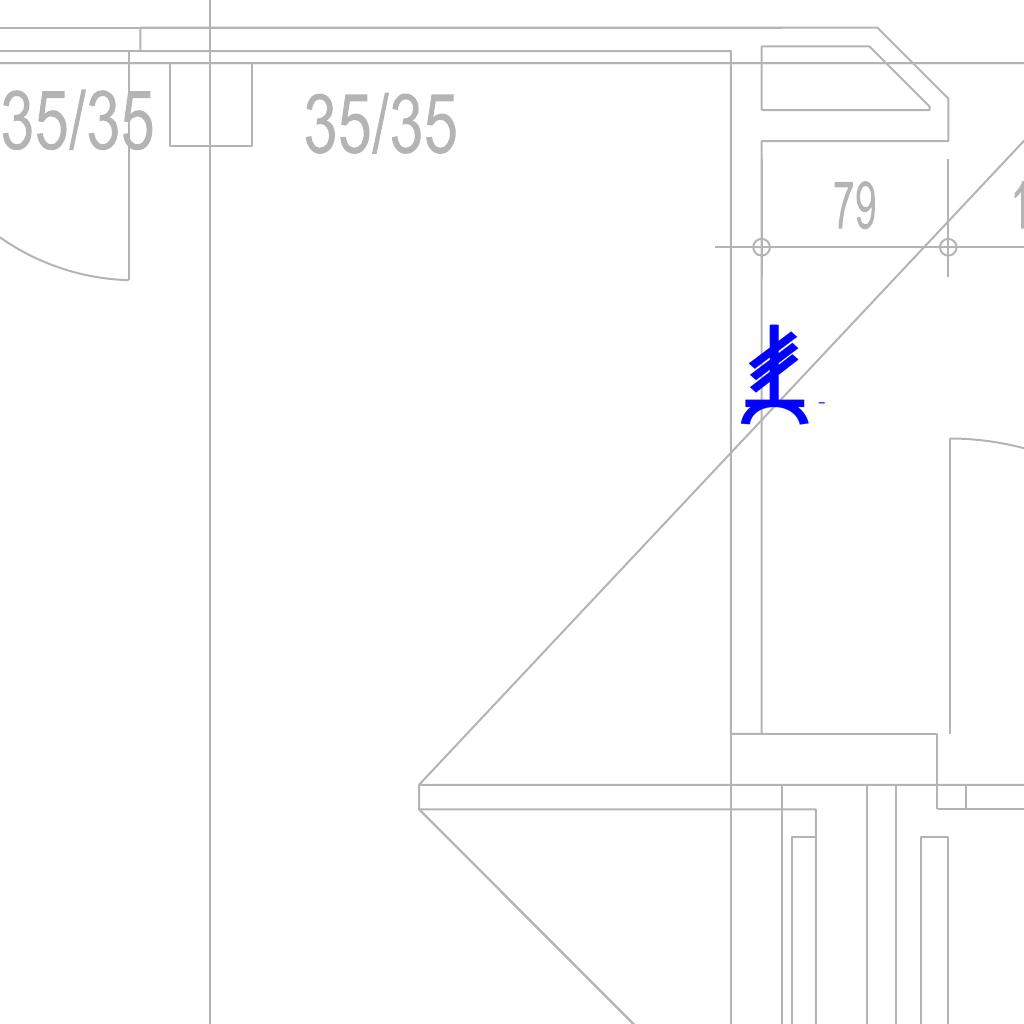CEE_Drehstrom_Steckdose_16_32_A: (738, 323, 828, 427)
